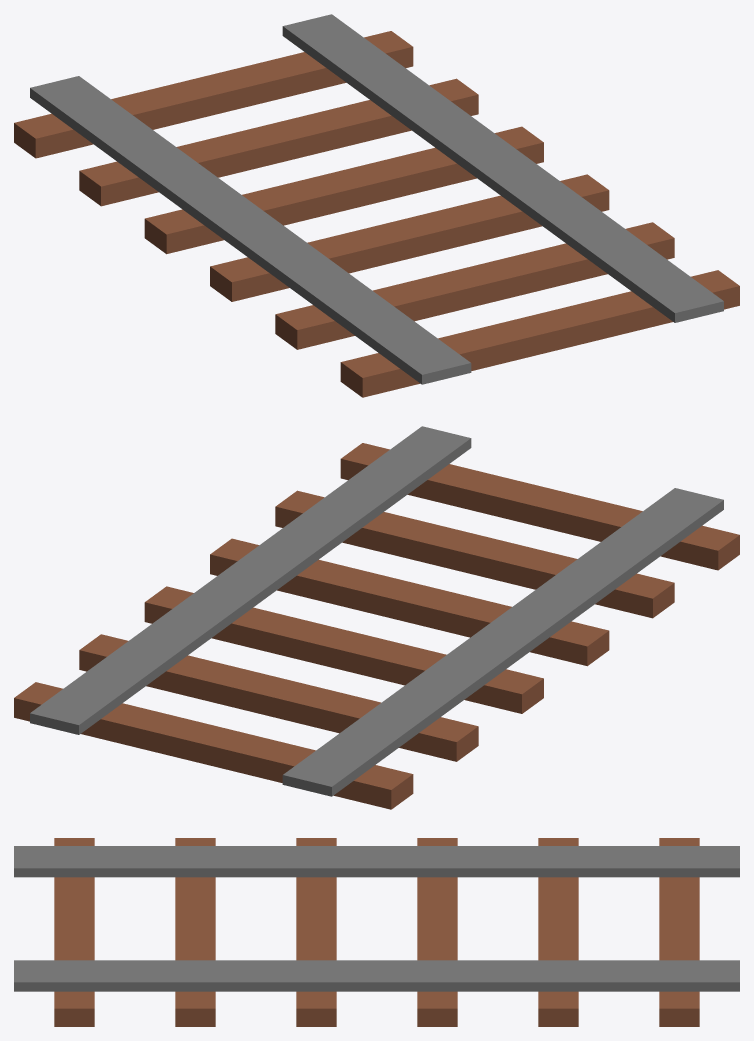
File: Tory.fbx
3 views of the same model, one above another, from view 1: azimuth 30°, elevation 25°; view 2: azimuth 150°, elevation 25°; view 3: azimuth 270°, elevation 25° (orthographic). The views are drawn at different scales.
Parts seen in each view (by area): view 1: Kostka.017; view 2: Kostka.017; view 3: Kostka.017.
Boxes of the visible parts, x1,y1,x2,y2 form: Kostka.017: [14, 14, 739, 397]; Kostka.017: [14, 426, 739, 809]; Kostka.017: [14, 838, 739, 1026].
Size of the model in its own units: 200 by 15 by 360.
Materials: 1 (1 with a texture image).
